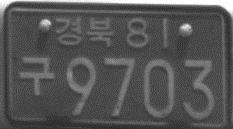0: (141, 56, 176, 120)
1: (158, 15, 172, 52)
3: (181, 57, 215, 121)
7: (101, 55, 136, 119)
8: (124, 16, 150, 48)
9: (64, 54, 97, 116)
경북_O: (54, 14, 115, 49)
구: (17, 54, 56, 97)
